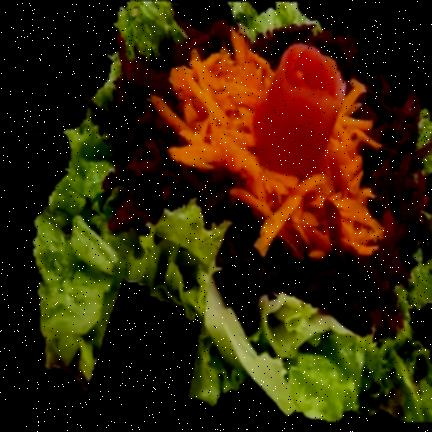beet: (87, 23, 429, 334)
carrot: (168, 30, 382, 260)
salad: (33, 112, 431, 422)
tomato: (254, 44, 345, 175)
